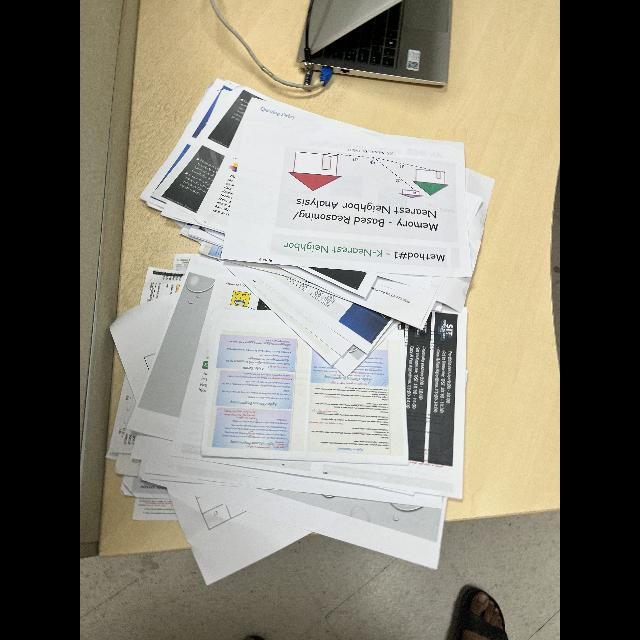reuseable_paper: (110, 70, 498, 590)
